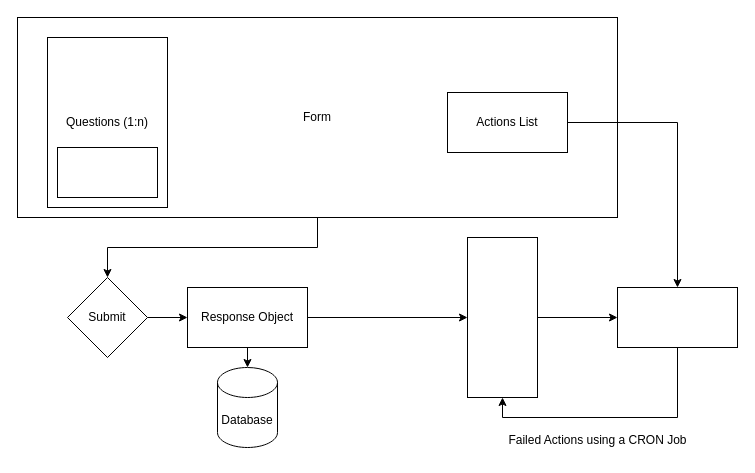
Some shapes in this 755 by 473 pixel diagram are drawn without their labels. Here are the shapes that lost their labels. From the top down, the centre of each, then its label:
At pixel 107 172: "Answers (1:1)".
At pixel 502 317: "Kafka".
At pixel 677 317: "Execution Service".
